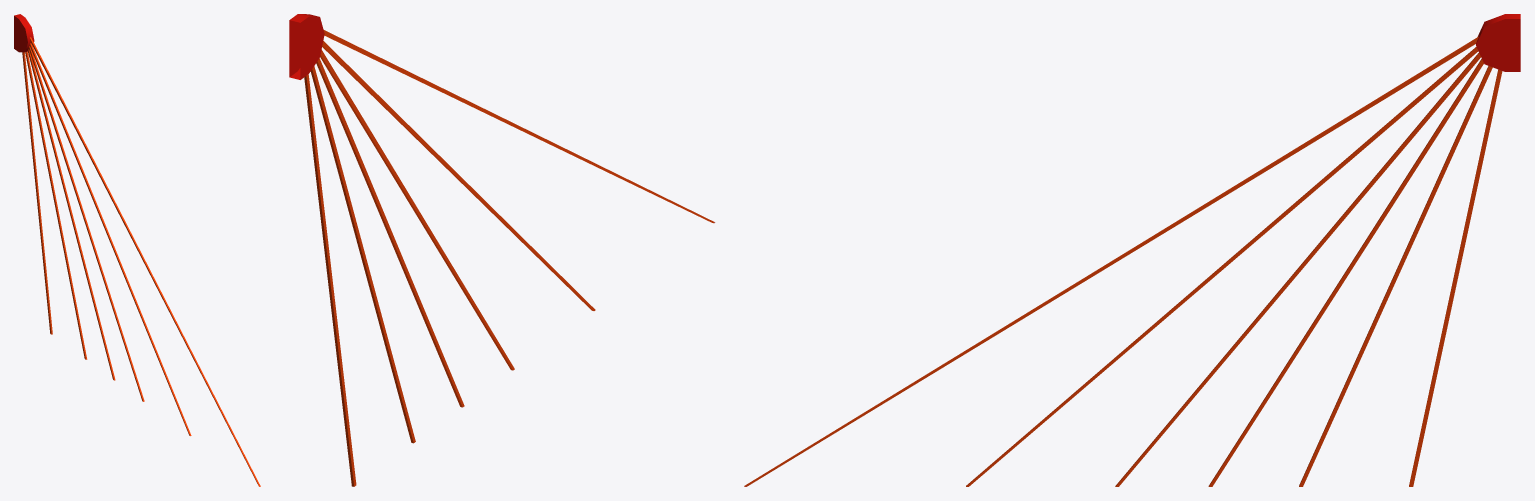
File: BridgeSuspension1.fbx
3 renders of one model, left to right at view 1: azimuth 30°, elevation 25°; view 2: azimuth 150°, elevation 25°; view 3: azimuth 270°, elevation 25°, orthographic. The views are drawn at different scales.
Visible parts, largest first — view 1: BridgeSuspension1; view 2: BridgeSuspension1; view 3: BridgeSuspension1.
Boxes of the visible parts, left/top/right/bottom form: BridgeSuspension1: left=14, top=14, right=260, bottom=486; BridgeSuspension1: left=289, top=14, right=715, bottom=486; BridgeSuspension1: left=744, top=14, right=1520, bottom=486.
Size of the model in its own units: 1.01 by 44.35 by 66.41.
